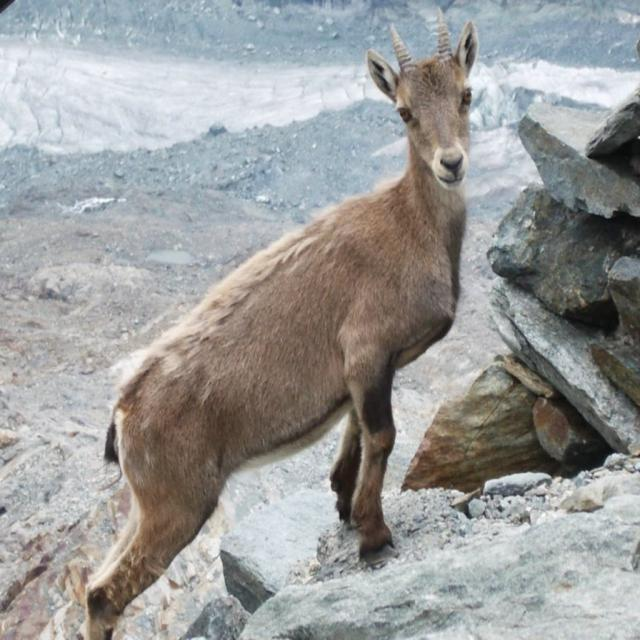Goat: (73, 4, 480, 639)
